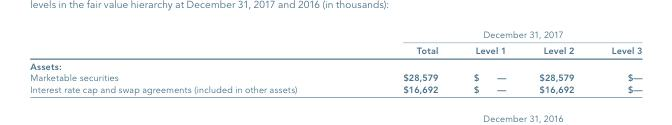table: (29, 28, 641, 94)
table column: (29, 28, 349, 94), (349, 28, 455, 94), (521, 28, 592, 94), (455, 28, 521, 94), (592, 28, 641, 94)
table column header: (29, 28, 641, 57)
table projected row header: (29, 57, 641, 71)
table row: (29, 42, 641, 57), (29, 28, 641, 42), (29, 57, 641, 71), (29, 82, 641, 94), (29, 71, 641, 82)
table spanning cell: (349, 28, 641, 42)
